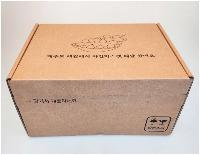undamaged: (5, 19, 194, 142)
